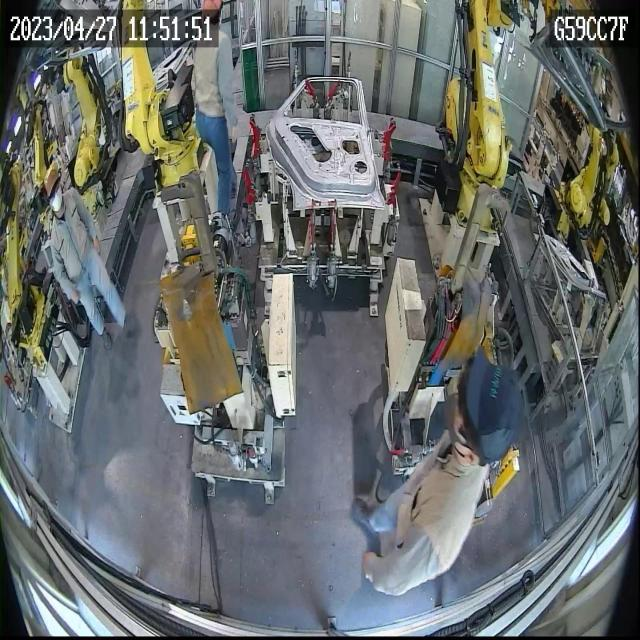Person: (350, 345, 522, 598), (40, 159, 127, 351), (189, 0, 237, 220)
